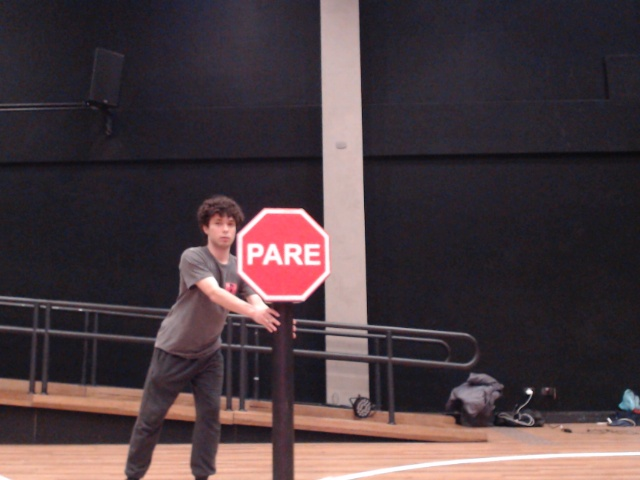SEMAFORO: (222, 195, 363, 325)
